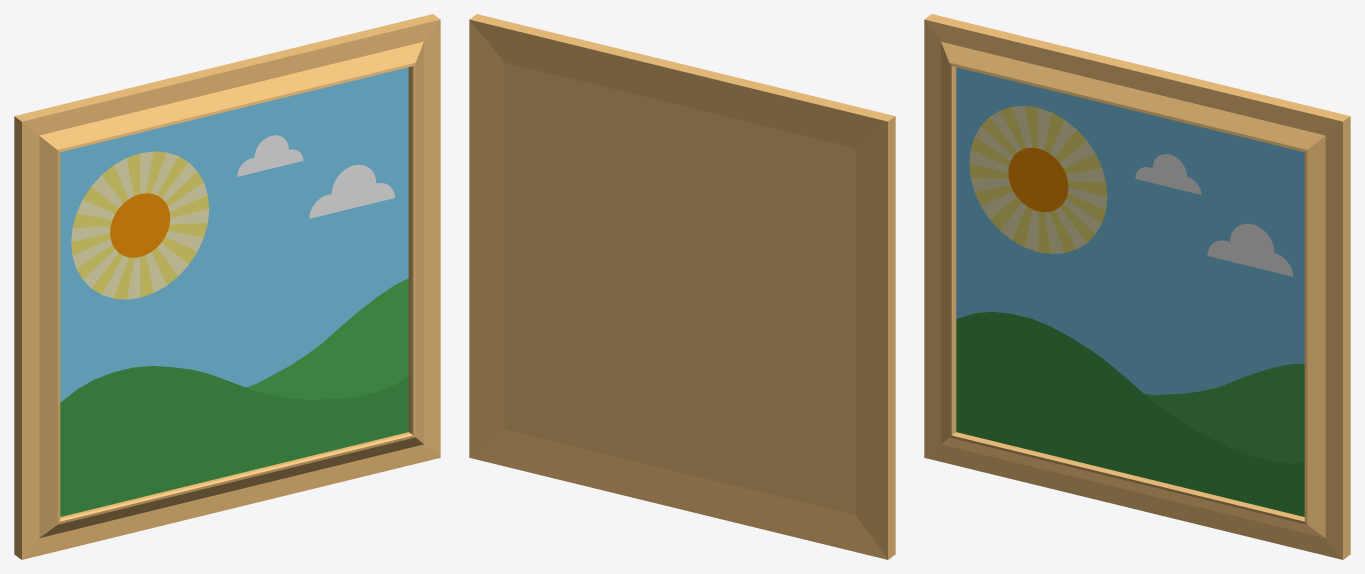
Rendered from framed_picture.glb.
3 views of the same model, side by side, from view 1: azimuth 30°, elevation 25°; view 2: azimuth 150°, elevation 25°; view 3: azimuth 330°, elevation 25° (orthographic).
Visible parts, largest first — view 1: Plane.321; view 2: Plane.321; view 3: Plane.321.
Boxes of the visible parts, x1=… form: Plane.321: x1=14, y1=14, x2=440, y2=559; Plane.321: x1=469, y1=14, x2=895, y2=559; Plane.321: x1=924, y1=14, x2=1350, y2=559.
Bounding box in the file's own units: 2.39 × 2.39 × 0.1301.
Materials: 1 (1 with a texture image).
